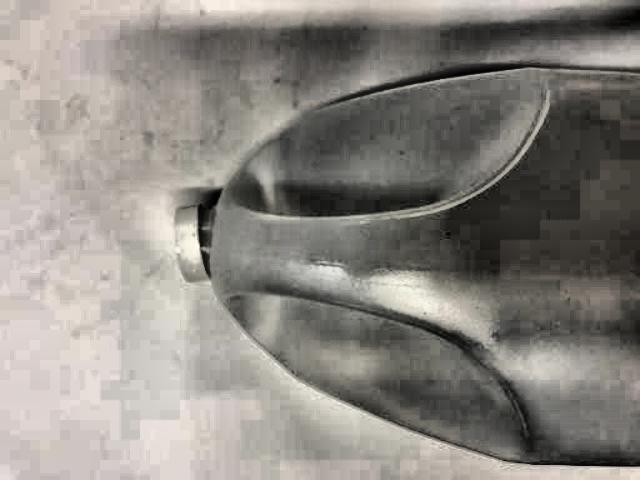Plastic: (179, 55, 640, 480)
